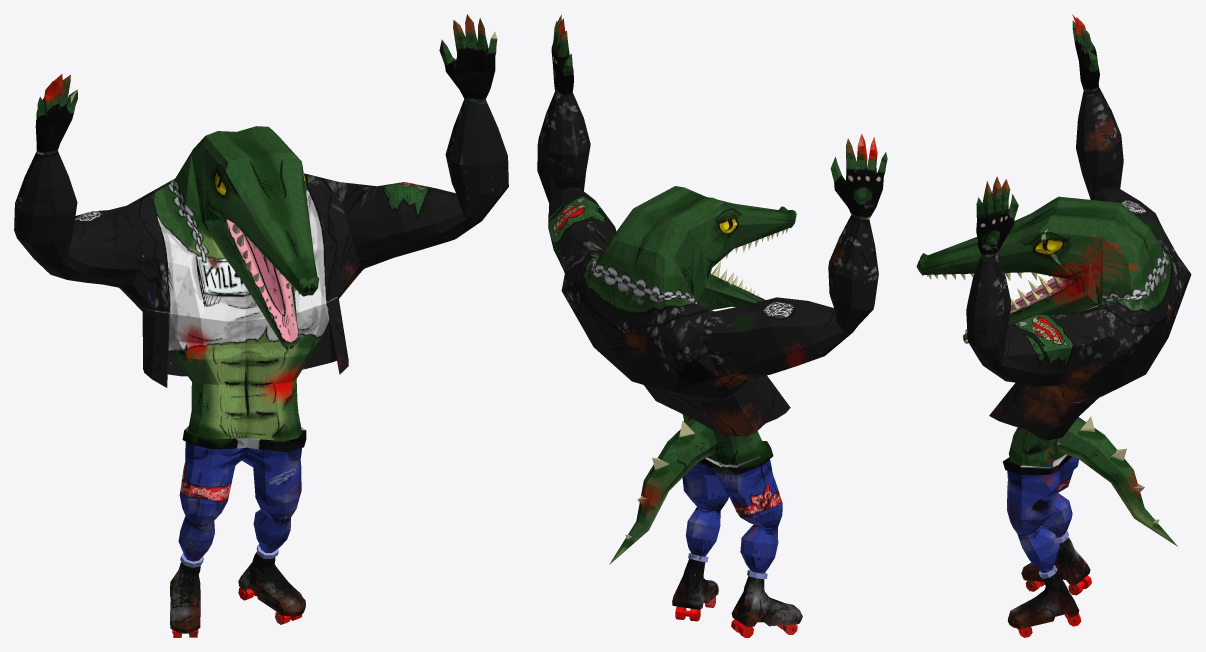
Rendered from cocodrilaBonesSelect_000008.obj.
The picture shows the model from 3 angles, left to right: view 1: azimuth 30°, elevation 25°; view 2: azimuth 150°, elevation 25°; view 3: azimuth 270°, elevation 25°; orthographic projection. The views are drawn at different scales.
Visible parts, largest first — view 1: Crocodile.002_Cylinder.002; view 2: Crocodile.002_Cylinder.002; view 3: Crocodile.002_Cylinder.002.
Boxes of the visible parts, x1,y1,x2,y2 form: Crocodile.002_Cylinder.002: [14, 14, 508, 637]; Crocodile.002_Cylinder.002: [537, 14, 887, 637]; Crocodile.002_Cylinder.002: [916, 14, 1191, 637].
Size of the model in its own units: 6.26 by 8.13 by 3.82.
